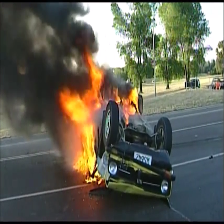fire_h: (58, 49, 110, 172), (122, 85, 141, 125)
fire_l: (84, 170, 103, 184), (113, 86, 121, 105)
